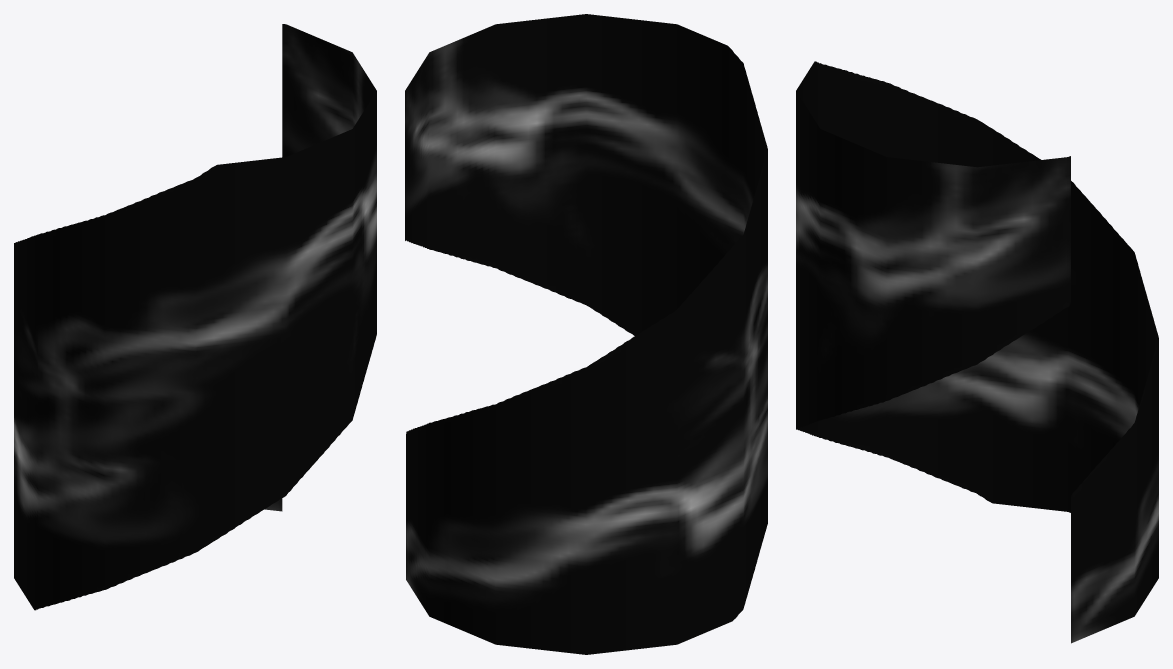
The model's file is ring.fbx.
3 renders of one model, left to right at view 1: azimuth 30°, elevation 25°; view 2: azimuth 150°, elevation 25°; view 3: azimuth 270°, elevation 25°, orthographic.
Visible parts, largest first — view 1: Cylinder1_10050; view 2: Cylinder1_10050; view 3: Cylinder1_10050.
Boxes of the visible parts, x1,y1,x2,y2 form: Cylinder1_10050: [14, 24, 376, 610]; Cylinder1_10050: [405, 14, 767, 654]; Cylinder1_10050: [796, 61, 1158, 643].
Bounding box in the file's own units: 78.74 × 117 × 78.74.
